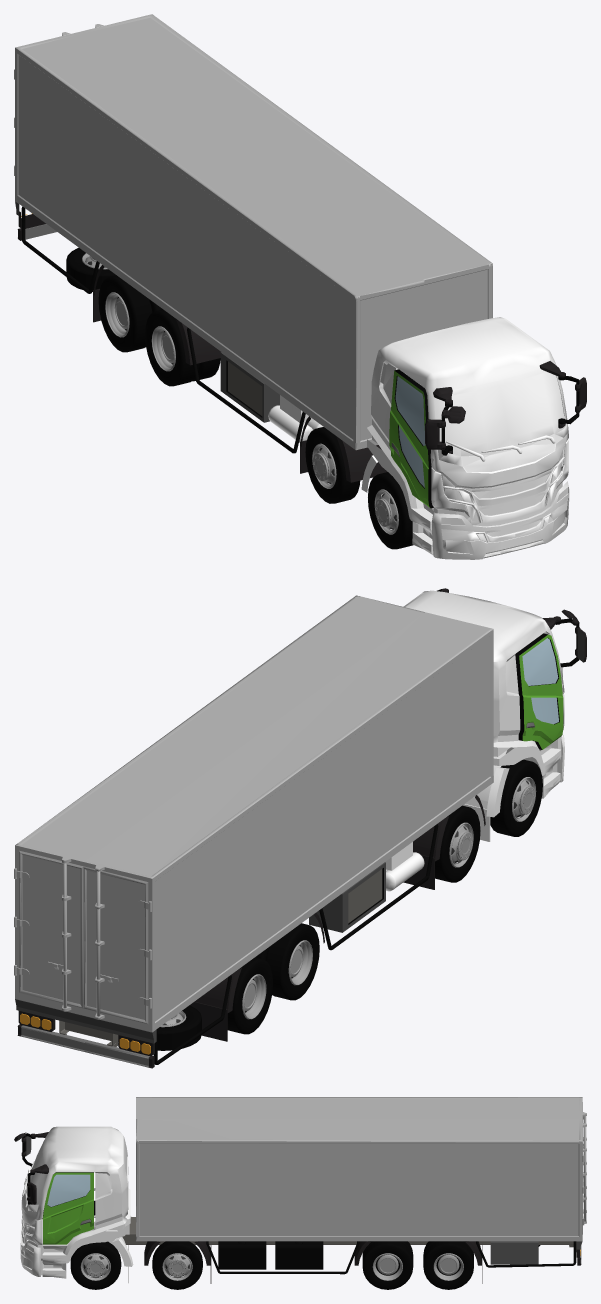
The model's file is tankDrain.glb.
3 views of the same model, one above another, from view 1: azimuth 30°, elevation 25°; view 2: azimuth 150°, elevation 25°; view 3: azimuth 270°, elevation 25° (orthographic). The views are drawn at different scales.
Parts seen in each view (by area): view 1: Truck_body_Truck_body.L, Truck_head_Truck_head.L, Truck_door.R, wheels_Circle, wheels_Circle.003, wheels_Circle.002, wheels_Circle.001, Truck_Toolbox1, Truck_backmirror.L, Truck_Brakesys, wheel_Circle.001, Truck_backmirror.R; view 2: Truck_body_Truck_body.L, Truck_head_Truck_head.L, Truck_door.R, wheels_Circle.003, wheels_Circle.001, wheels_Circle, wheels_Circle.002, Truck_Toolbox1, wheel_Circle.001, Truck_Brakesys, Truck_backmirror.L; view 3: Truck_body_Truck_body.L, Truck_head_Truck_head.L, Truck_door.L, wheels_Circle.003, wheels_Circle, wheels_Circle.002, wheels_Circle.001, Truck_Fueltank02, Truck_Fueltank01, Truck_Toolbox, Truck_backmirror.L, Truck_backmirror.R.
Boxes of the visible parts, x1,y1,x2,y2 form: Truck_body_Truck_body.L: (14,14,492,482); Truck_head_Truck_head.L: (361,317,569,559); Truck_door.R: (389,369,433,508); wheels_Circle: (98,275,162,352); wheels_Circle.003: (145,309,220,386); wheels_Circle.002: (305,427,360,503); wheels_Circle.001: (368,472,413,549); Truck_Toolbox1: (220,352,279,422); Truck_backmirror.L: (425,387,465,455); Truck_Brakesys: (268,395,323,442); wheel_Circle.001: (66,247,116,291); Truck_backmirror.R: (539,361,586,428); Truck_body_Truck_body.L: (14,595,493,1068); Truck_head_Truck_head.L: (403,590,564,841); Truck_door.R: (515,633,563,749); wheels_Circle.003: (255,923,319,1000); wheels_Circle.001: (490,759,542,836); wheels_Circle: (227,957,273,1034); wheels_Circle.002: (435,805,480,882); Truck_Toolbox1: (309,862,385,932); wheel_Circle.001: (156,1005,201,1050); Truck_Brakesys: (385,842,424,891); Truck_backmirror.L: (542,609,586,667); Truck_body_Truck_body.L: (122,1097,586,1283); Truck_head_Truck_head.L: (20,1126,133,1283); Truck_door.L: (42,1172,93,1244); wheels_Circle.003: (362,1241,413,1289); wheels_Circle: (423,1241,473,1289); wheels_Circle.002: (152,1241,202,1289); wheels_Circle.001: (70,1200,121,1289); Truck_Fueltank02: (275,1241,323,1269); Truck_Fueltank01: (218,1241,266,1269); Truck_Toolbox: (490,1241,538,1264); Truck_backmirror.L: (14,1132,48,1169); Truck_backmirror.R: (27,1164,48,1204).
Bounding box in the file's own units: 1.98 × 2.6 × 9.04.
